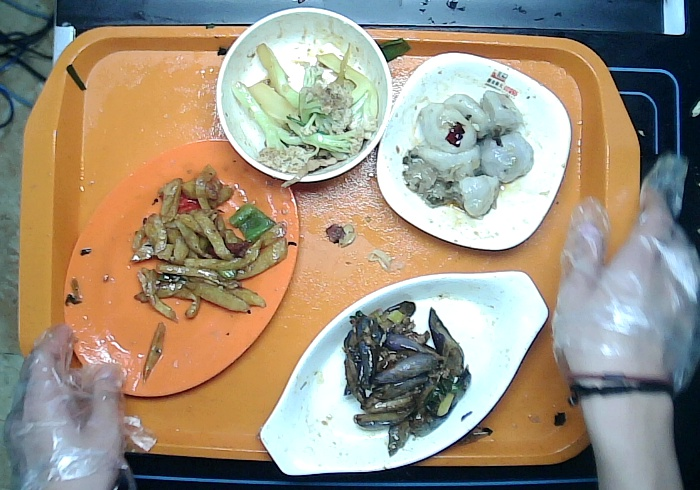NLDX-Bai_Se_Xiao_Fang_Die: (373, 51, 575, 253)
NLDX-Fan_Wan: (216, 6, 396, 185)
NLDX-Ju_Se_Pan: (60, 136, 303, 400)
NLDX-Yu_Pan: (257, 267, 550, 478)
